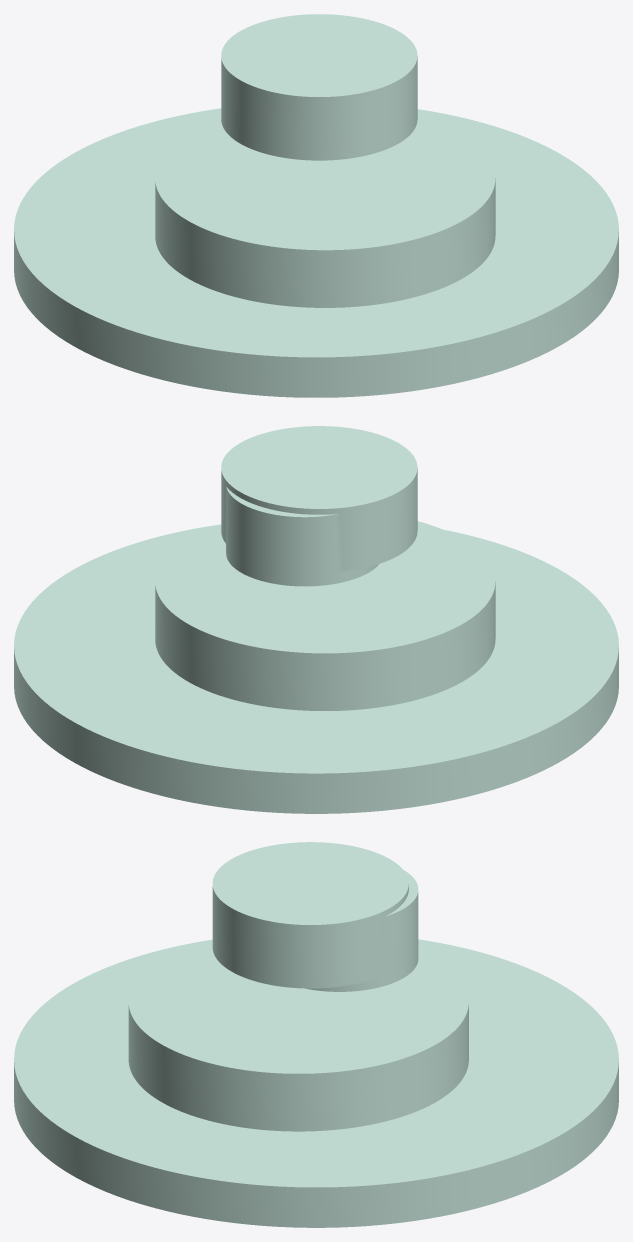
The picture shows the model from 3 angles, top to bottom: view 1: azimuth 30°, elevation 25°; view 2: azimuth 150°, elevation 25°; view 3: azimuth 270°, elevation 25°; orthographic projection.
Parts seen in each view (by area): view 1: Renderer Node; view 2: Renderer Node; view 3: Renderer Node.
Part boxes in pixels (<box>): Renderer Node: <box>14,14,618,397</box>; Renderer Node: <box>14,426,618,813</box>; Renderer Node: <box>14,842,618,1227</box>.
Bounding box in the file's own units: 1.48 × 0.5859 × 1.48.
